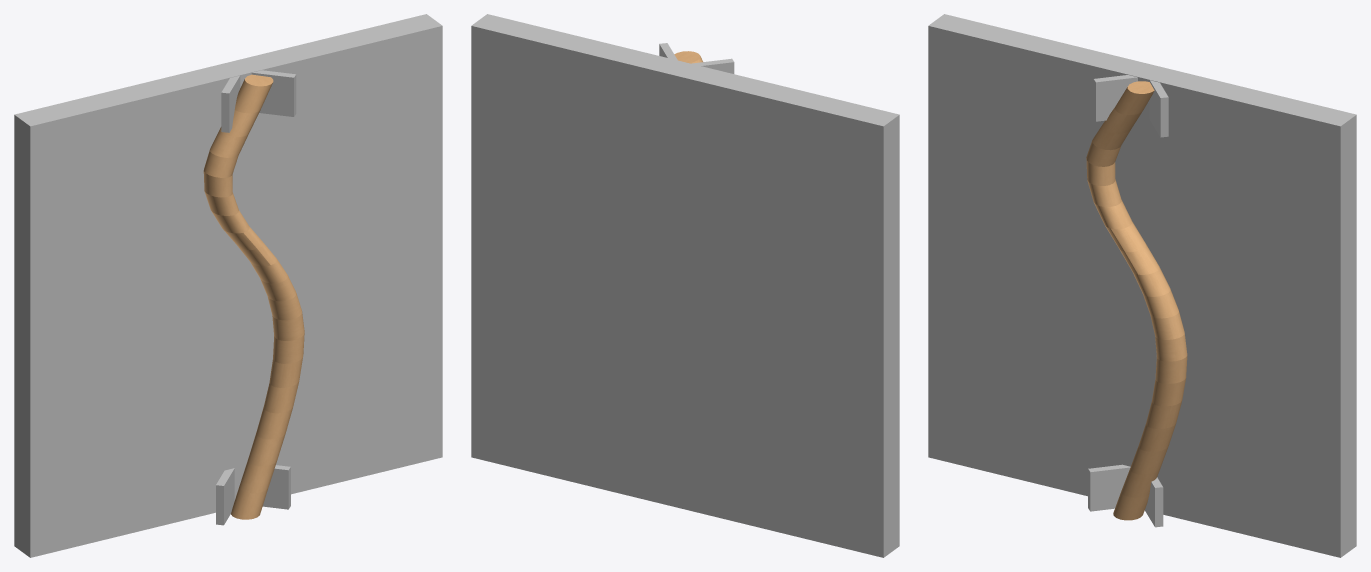
The model's file is Wire.fbx.
3 views of the same model, side by side, from view 1: azimuth 30°, elevation 25°; view 2: azimuth 150°, elevation 25°; view 3: azimuth 330°, elevation 25° (orthographic).
Visible parts, largest first — view 1: Wire; view 2: Wire; view 3: Wire.
Part boxes in pixels (x1=…): Wire: x1=14, y1=14, x2=442, y2=557; Wire: x1=471, y1=14, x2=899, y2=557; Wire: x1=928, y1=14, x2=1356, y2=557.
Bounding box in the file's own units: 200 × 200 × 26.74.
